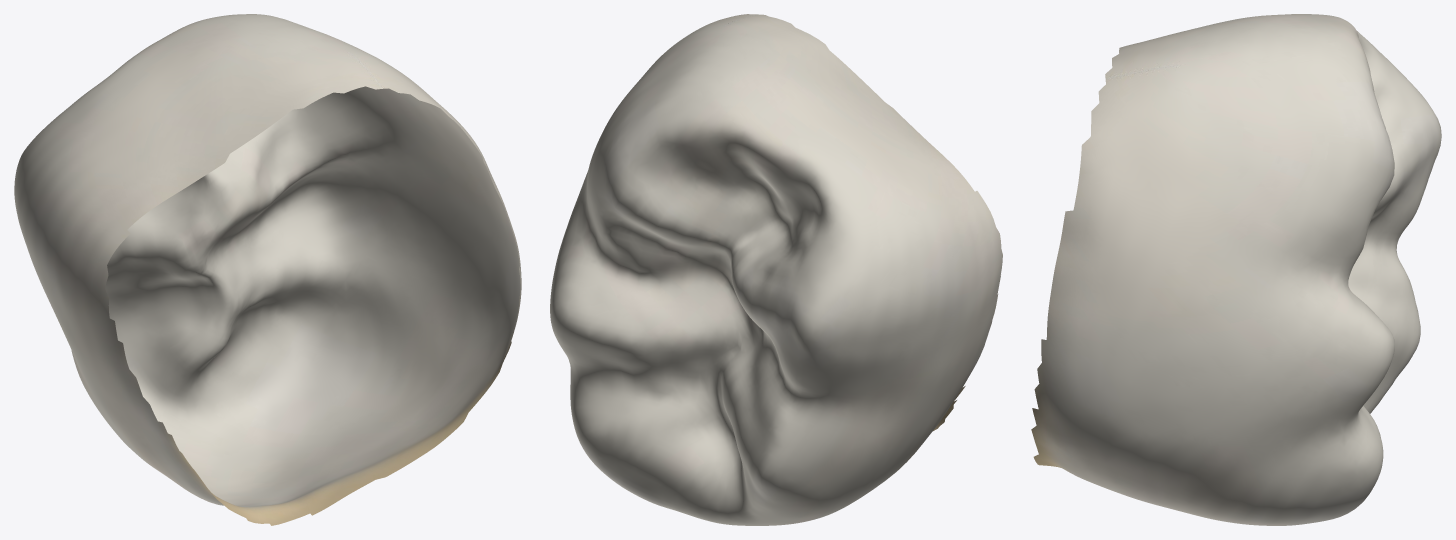
Rendered from molar.glb.
The picture shows the model from 3 angles, left to right: view 1: azimuth 30°, elevation 25°; view 2: azimuth 150°, elevation 25°; view 3: azimuth 270°, elevation 25°; orthographic projection. The views are drawn at different scales.
Visible parts, largest first — view 1: Object_2; view 2: Object_2; view 3: Object_2.
Boxes of the visible parts, x1=… form: Object_2: x1=14, y1=14, x2=521, y2=525; Object_2: x1=550, y1=14, x2=1002, y2=525; Object_2: x1=1031, y1=14, x2=1441, y2=525.
Bounding box in the file's own units: 1.02 × 1.09 × 0.8432.
1 material, 1 textured.
